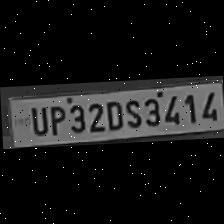1: (178, 90, 198, 124)
2: (84, 100, 104, 132)
3: (64, 100, 84, 134), (140, 93, 160, 127)
4: (196, 88, 218, 122), (160, 92, 180, 125)
D: (102, 97, 124, 130)
P: (44, 102, 65, 136)
S: (121, 96, 141, 128)
U: (26, 103, 48, 135)
